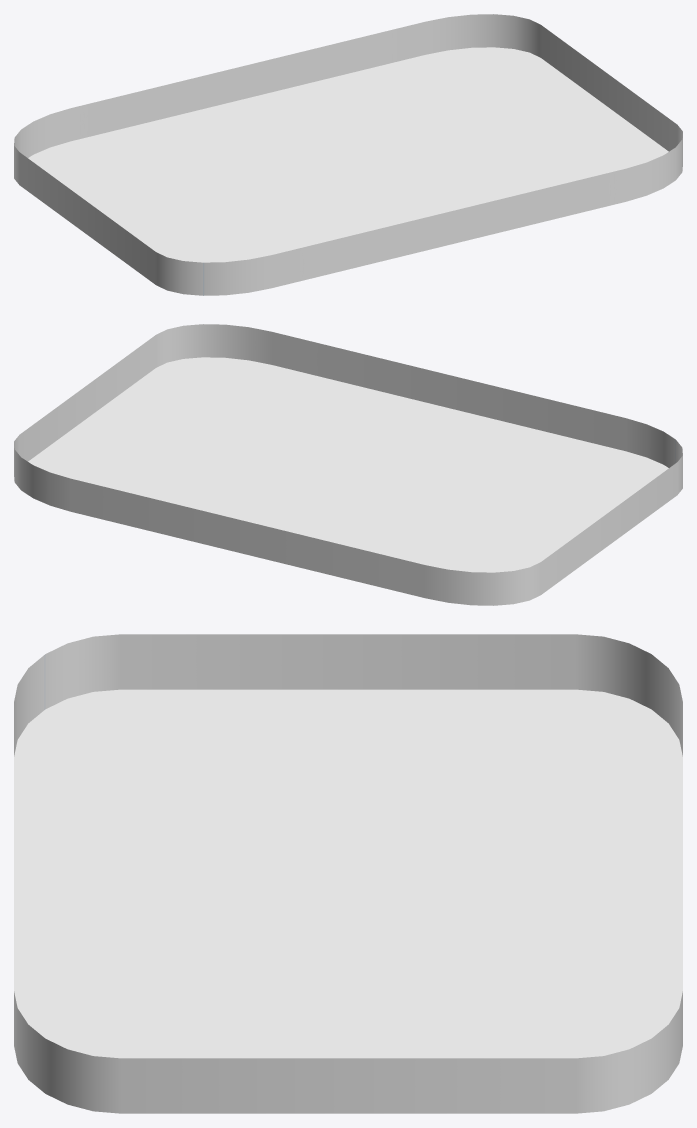
Rendered from majong_0.obj.
3 views of the same model, one above another, from view 1: azimuth 30°, elevation 25°; view 2: azimuth 150°, elevation 25°; view 3: azimuth 270°, elevation 25° (orthographic). The views are drawn at different scales.
Size of the model in its own units: 1.8 by 0.1095 by 1.2.
